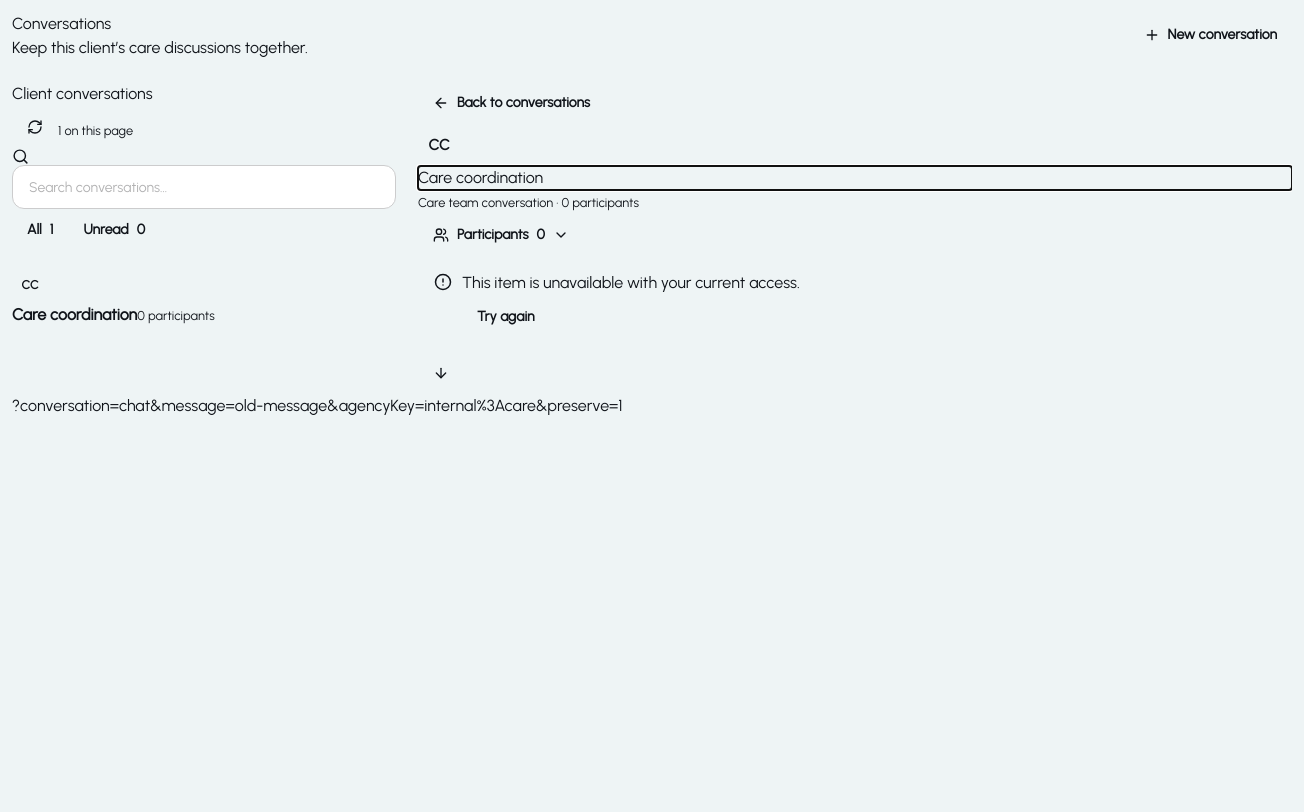
Test case: lets an unavailable notification target return to current messages without changing the organization or conversation
The image size is (1304, 812).
Check: the message shows "This item is unavailable with your current access.", box [462, 273, 800, 292]
Click the button named "Go to latest message".
click(441, 373)  # box [418, 352, 464, 394]
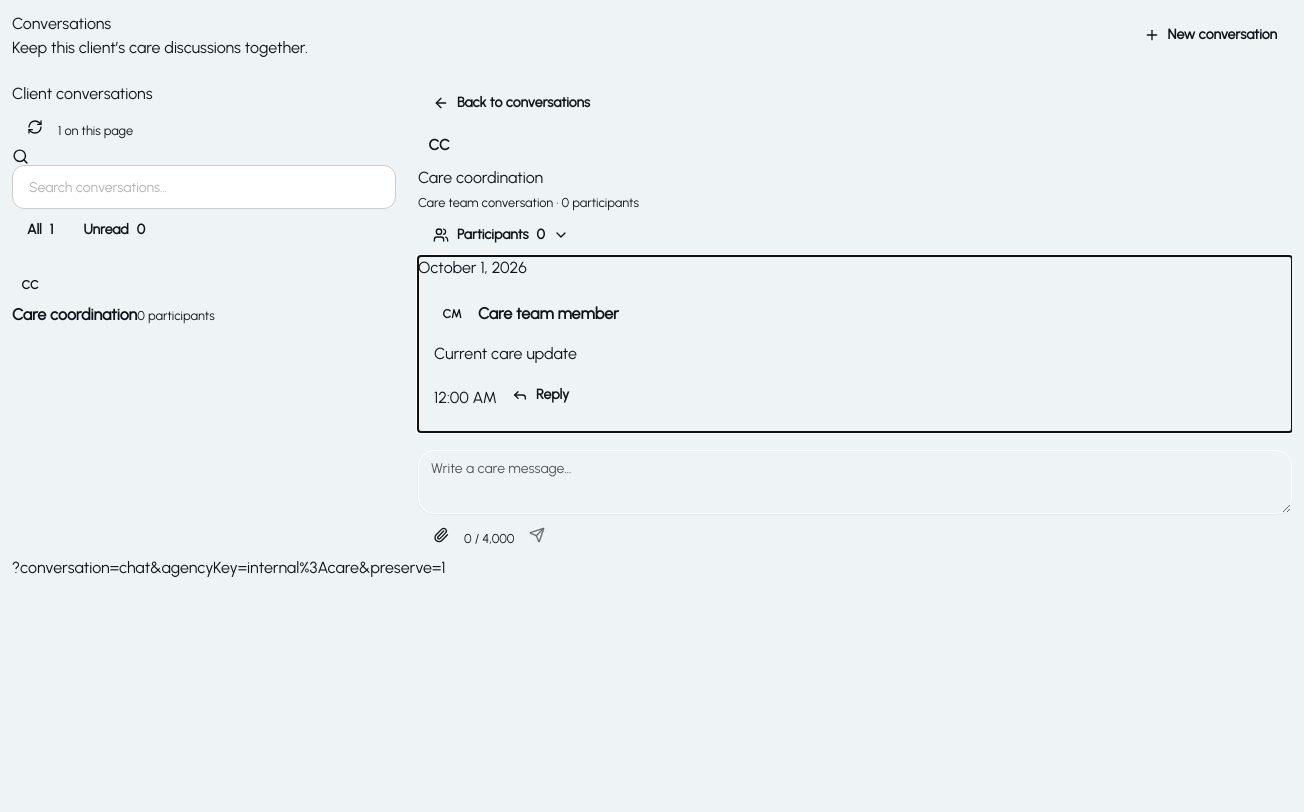
Check: the text "Current care update" is shown, box [434, 344, 577, 363]
Check: the message "This item is unavailable with your current access. Try again" is gone
